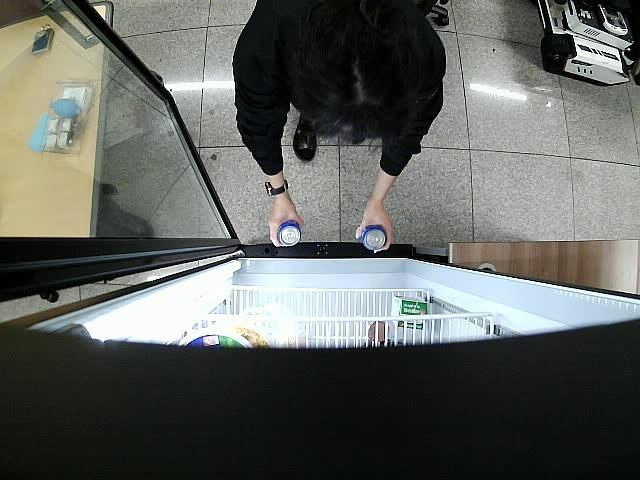13_pocariSweat: (358, 224, 388, 252), (277, 220, 301, 246)
